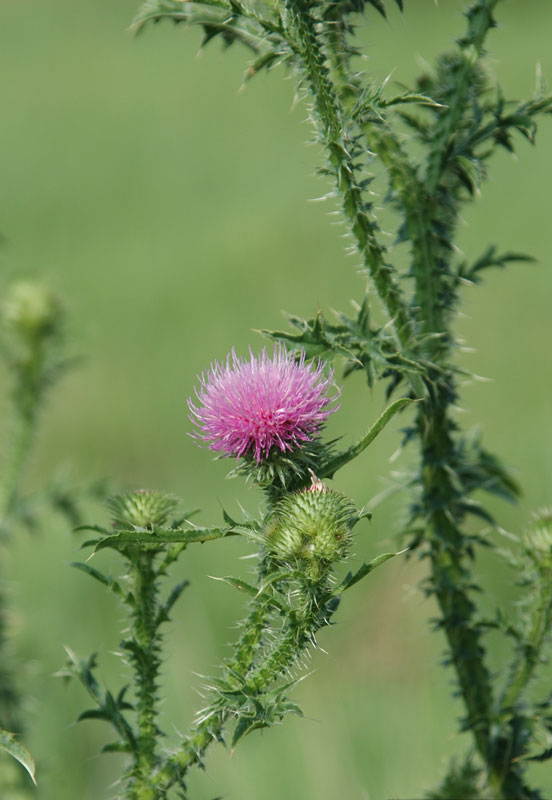bull thistle: (184, 340, 377, 587)
